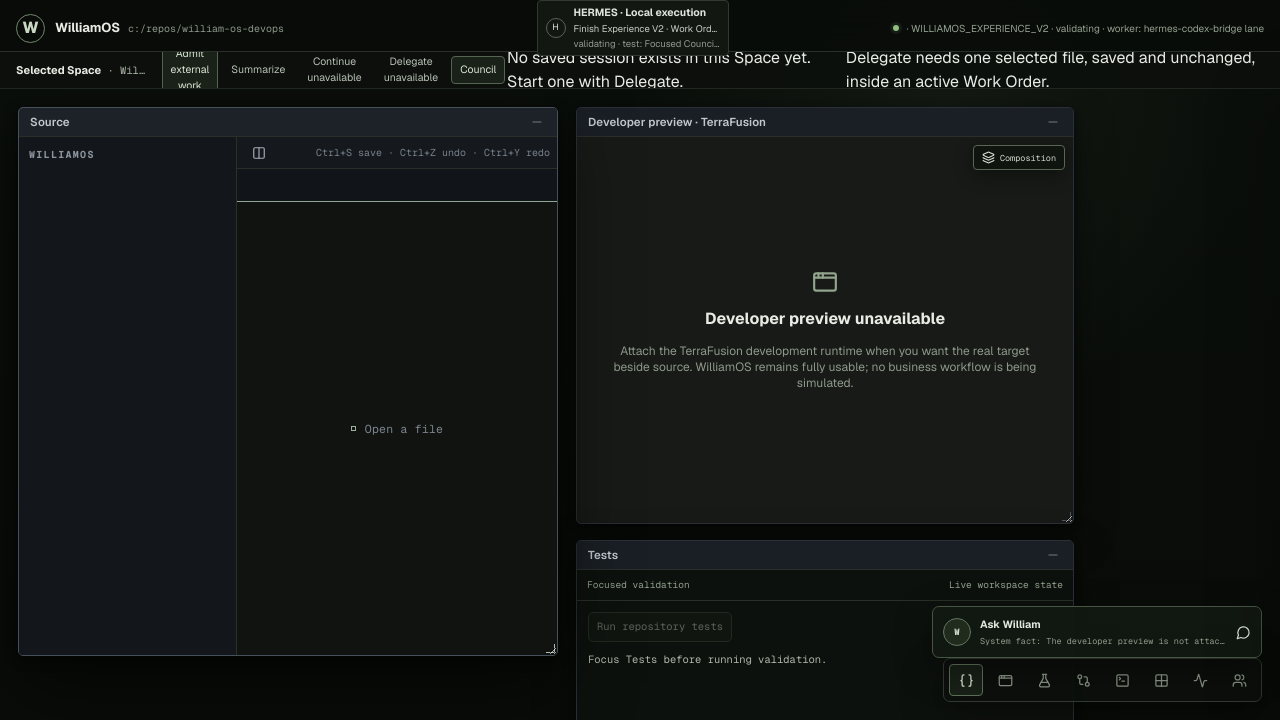
Test: Experience V2 Brain Council surface › convenes Council for a persisted HERMES worker with only exact Space and Work Order stale guards
Click the button with aria-label "HERMES · Local execution · Finish Experience V2 · Work Order". click: {"x": 632, "y": 28}
box: top-left (536, 0), bottom-right (728, 56)
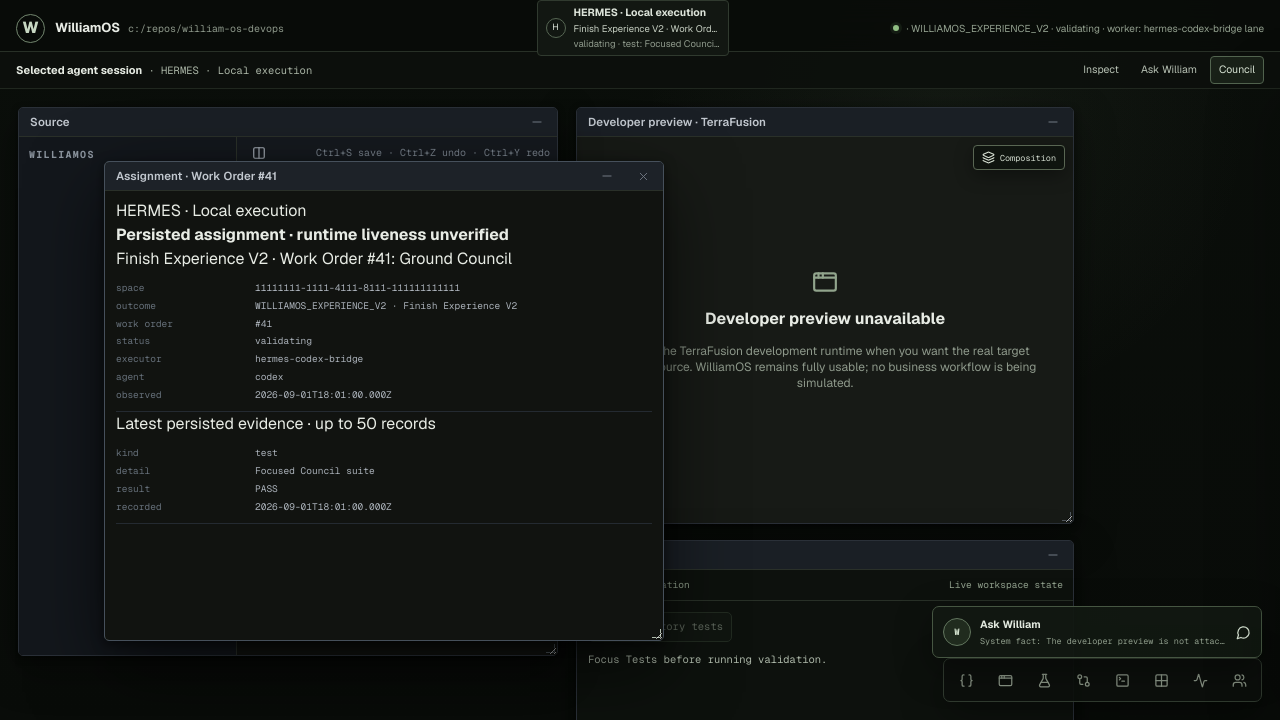
Click the button "Council". click: {"x": 1237, "y": 70}
box: top-left (1210, 56), bottom-right (1264, 84)
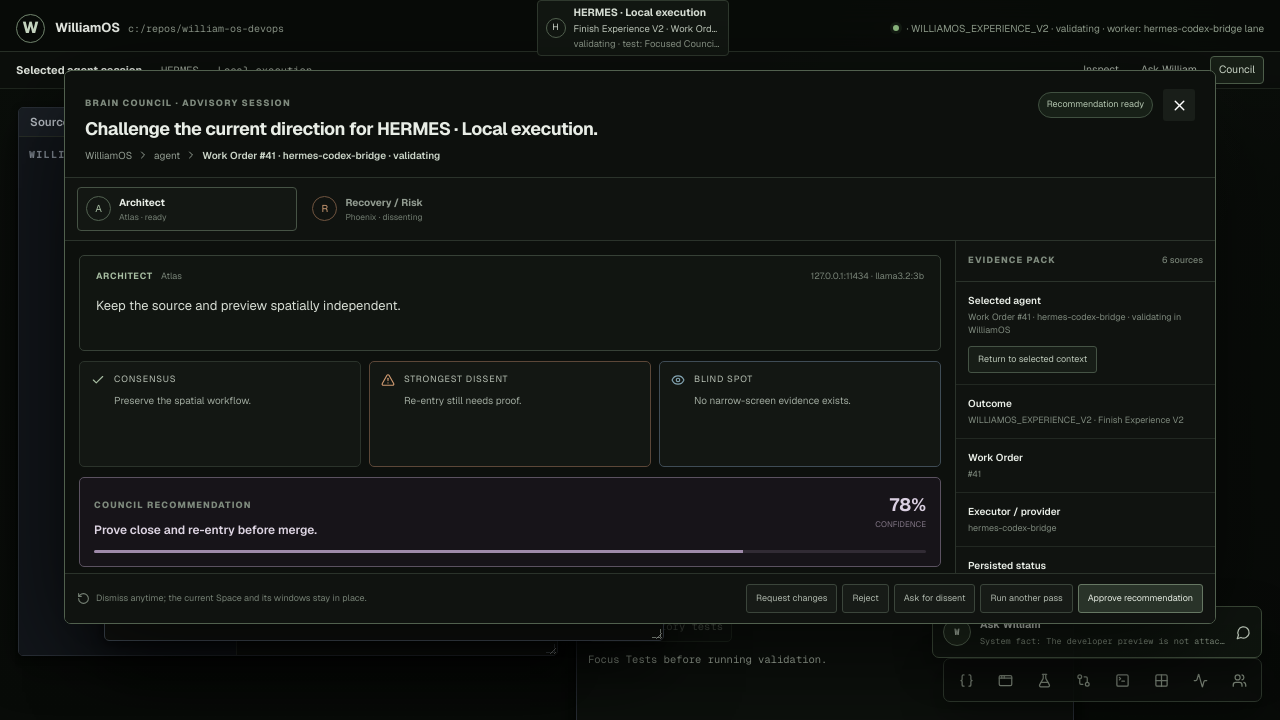
Check: the text "WILLIAMOS_EXPERIENCE_V2 · Finish Experience V2" below "11111111-1111-4111-8111-111111111111" is shown, box top-left (255, 299), bottom-right (517, 312)
Check: the text "#41" is shown, box top-left (968, 468), bottom-right (981, 480)
Check: the text "Executor / provider" is shown, box top-left (968, 505), bottom-right (1061, 518)
